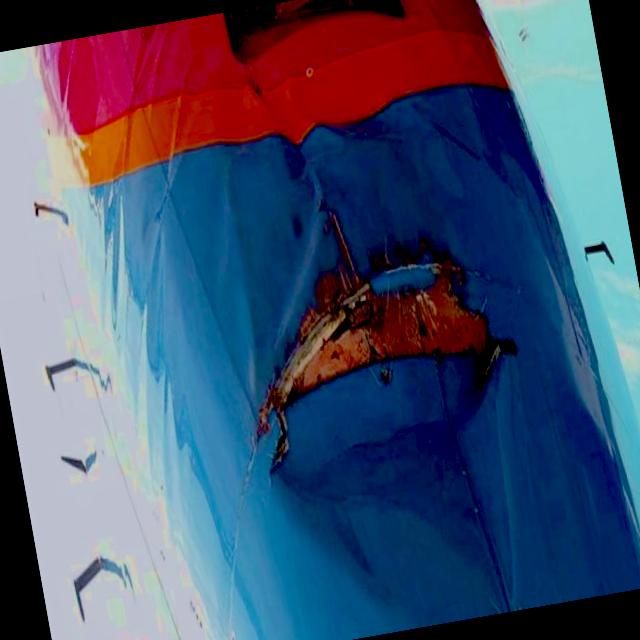crack: (226, 224, 524, 484)
